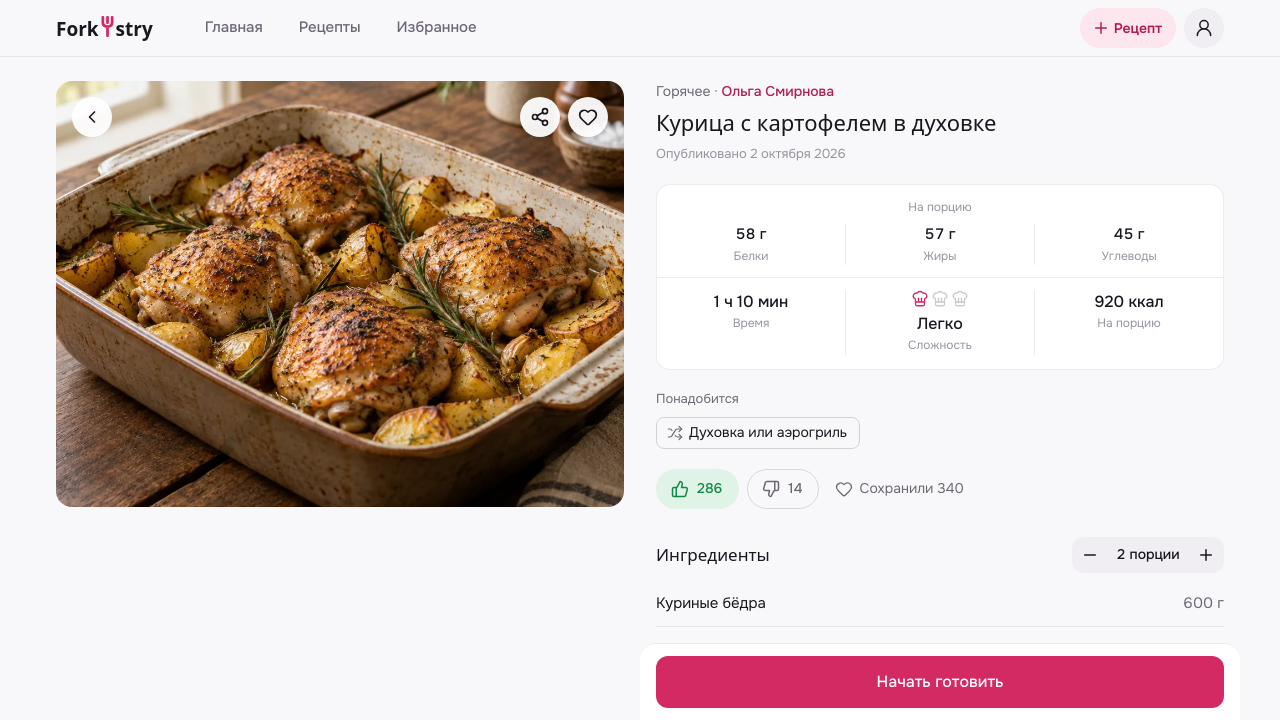
Test case: страница рецепта › пересчёт ингредиентов под число порций
The width and height of the screenshot is (1280, 720).
expect the heading "Курица с картофелем в духовке" is shown: met, box [656,107,996,137]
What coordinates should you click on to do the following:
click the button named "Больше порций"
I would click on:
 (1206, 555)
Its box is [1188,537,1224,573].
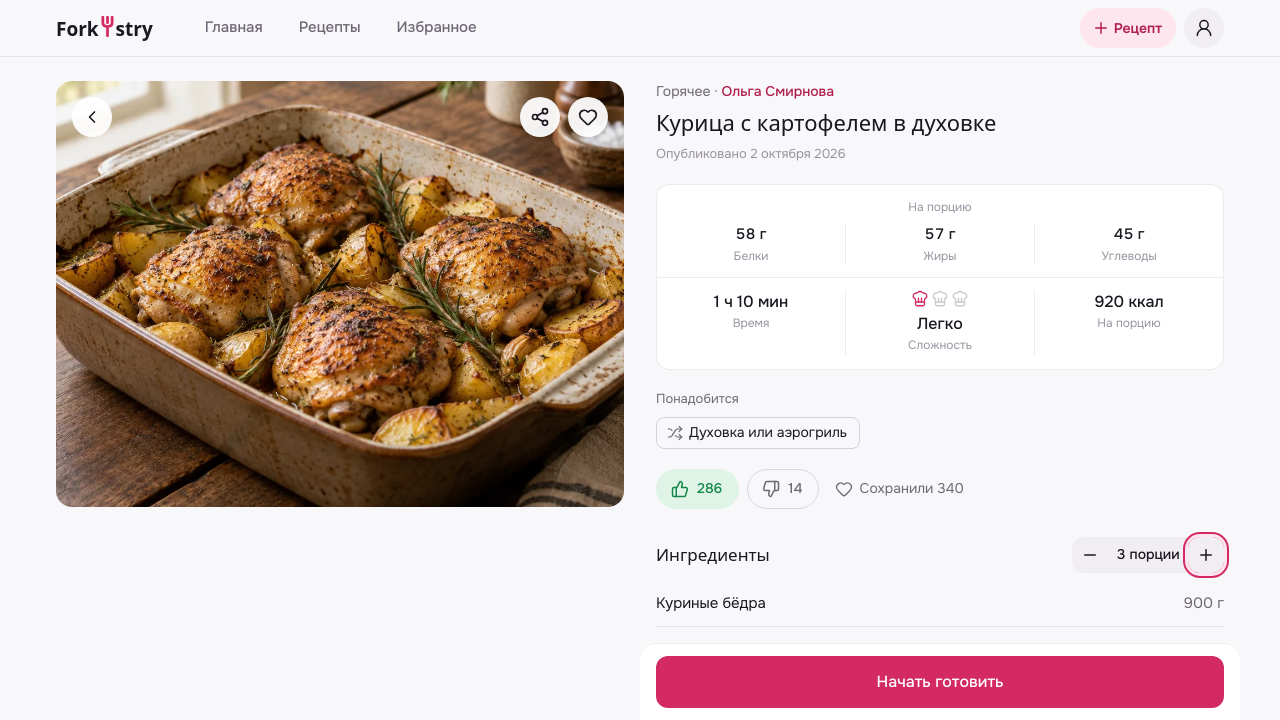
What coordinates should you click on to do the following:
click the button named "Больше порций"
I would click on:
 (1206, 555)
Its box is [1188,537,1224,573].
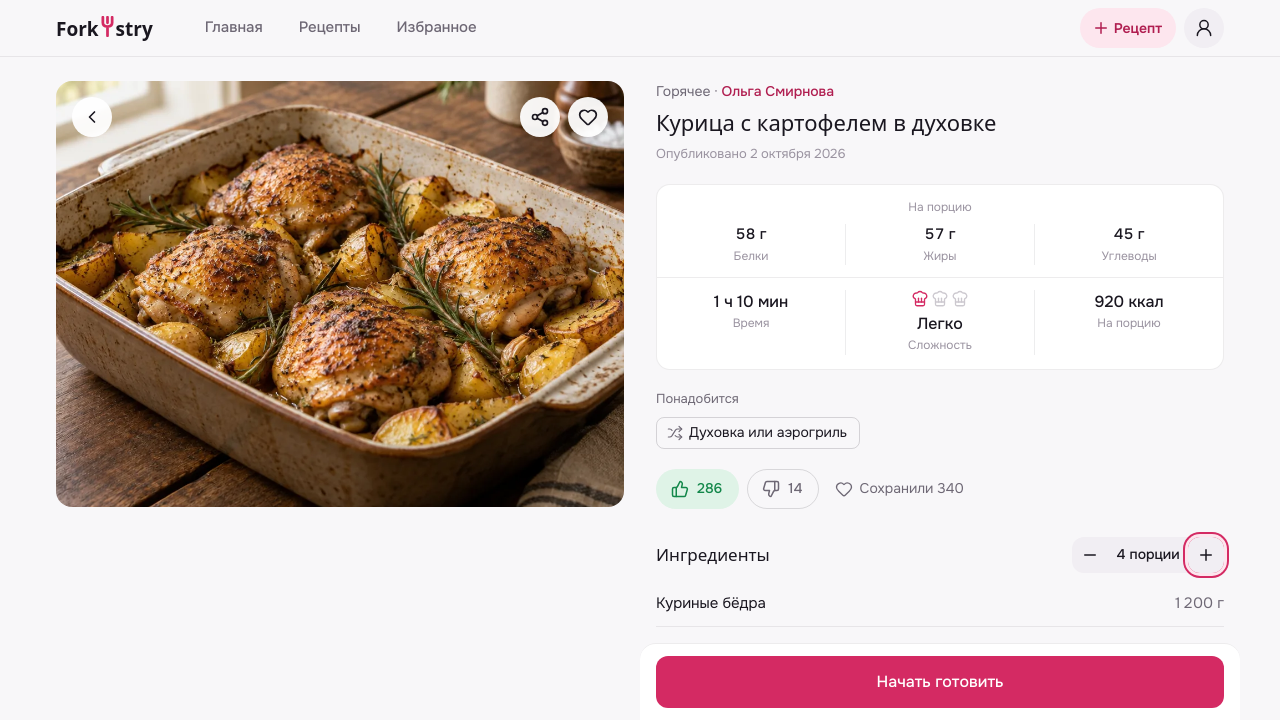
expect the text "4 порции" is shown: met, box [1112,544,1184,565]
